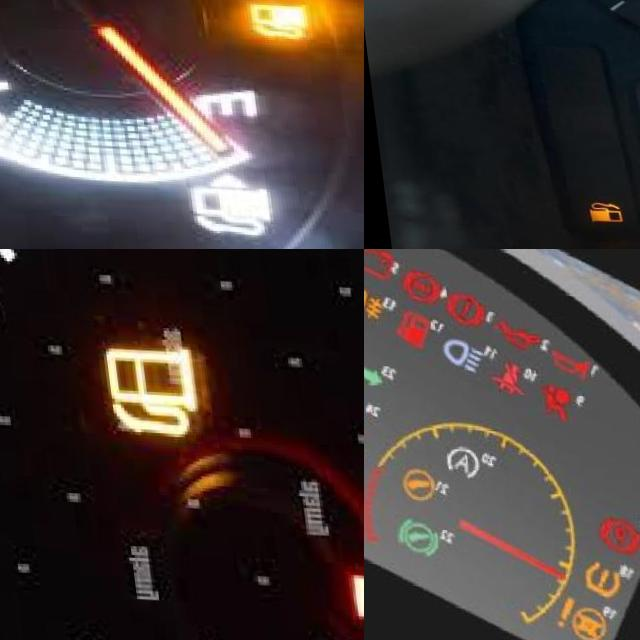Electronic Power Steering: (526, 587, 603, 640)
